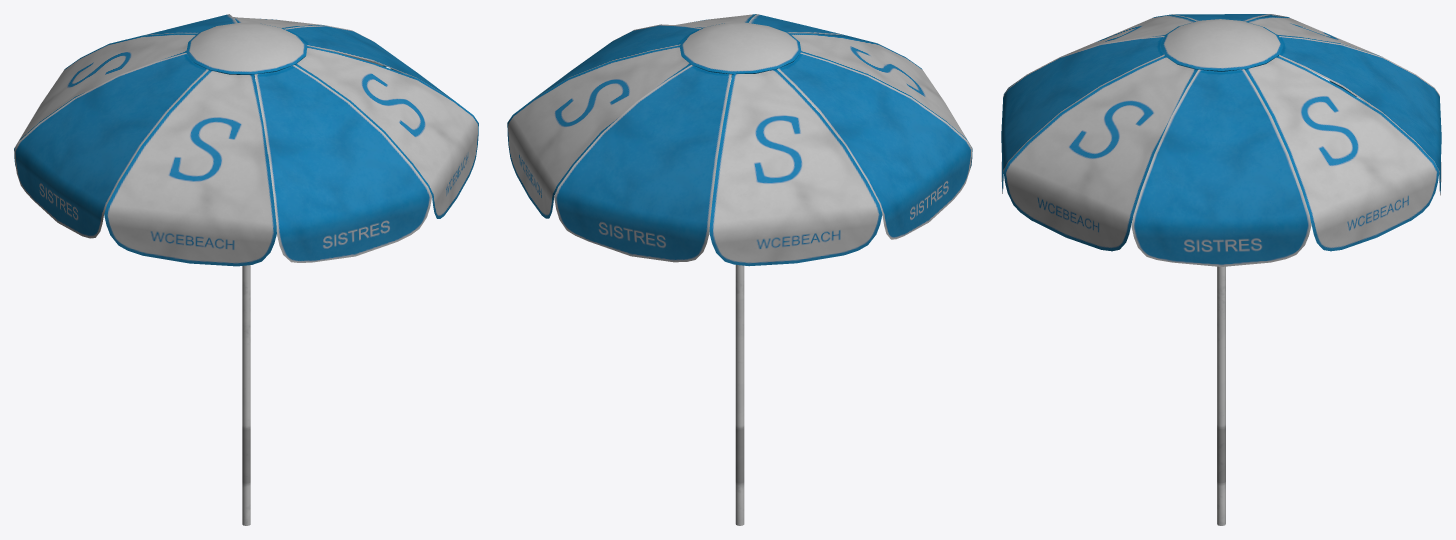
File: MB_Beach_Umbrella_01.fbx
The picture shows the model from 3 angles, left to right: view 1: azimuth 30°, elevation 25°; view 2: azimuth 150°, elevation 25°; view 3: azimuth 270°, elevation 25°; orthographic projection.
Visible parts, largest first — view 1: MB_Beach_Umbrella_01_LOD0; view 2: MB_Beach_Umbrella_01_LOD0; view 3: MB_Beach_Umbrella_01_LOD0.
Boxes of the visible parts, x1,y1,x2,y2 form: MB_Beach_Umbrella_01_LOD0: [14, 14, 478, 525]; MB_Beach_Umbrella_01_LOD0: [507, 14, 972, 525]; MB_Beach_Umbrella_01_LOD0: [1001, 14, 1441, 525].
Size of what is drawn, in the model's own units: 185 by 228 by 185.
